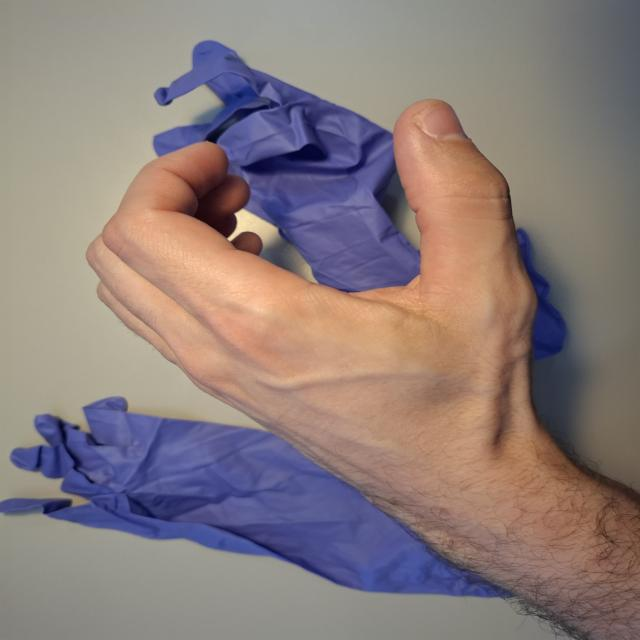glove_off: (81, 96, 548, 478)
